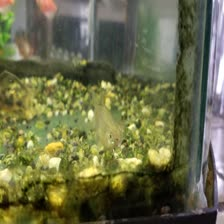Guppy: (89, 95, 135, 153)
